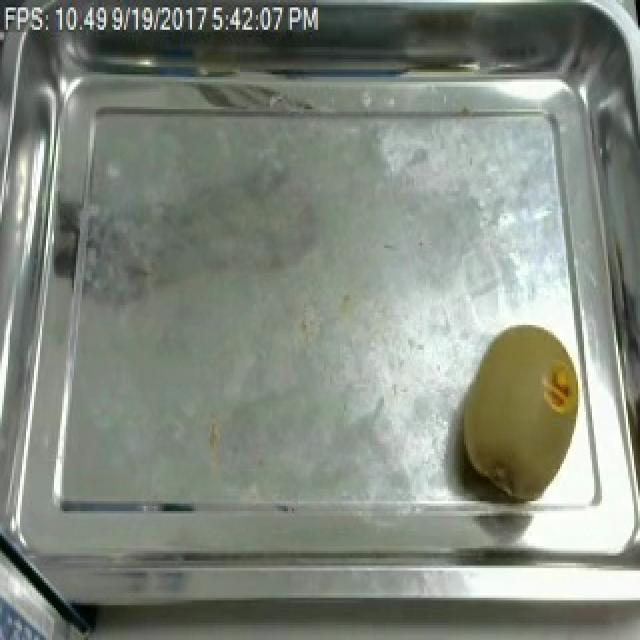Fruit: (452, 315, 596, 504)
